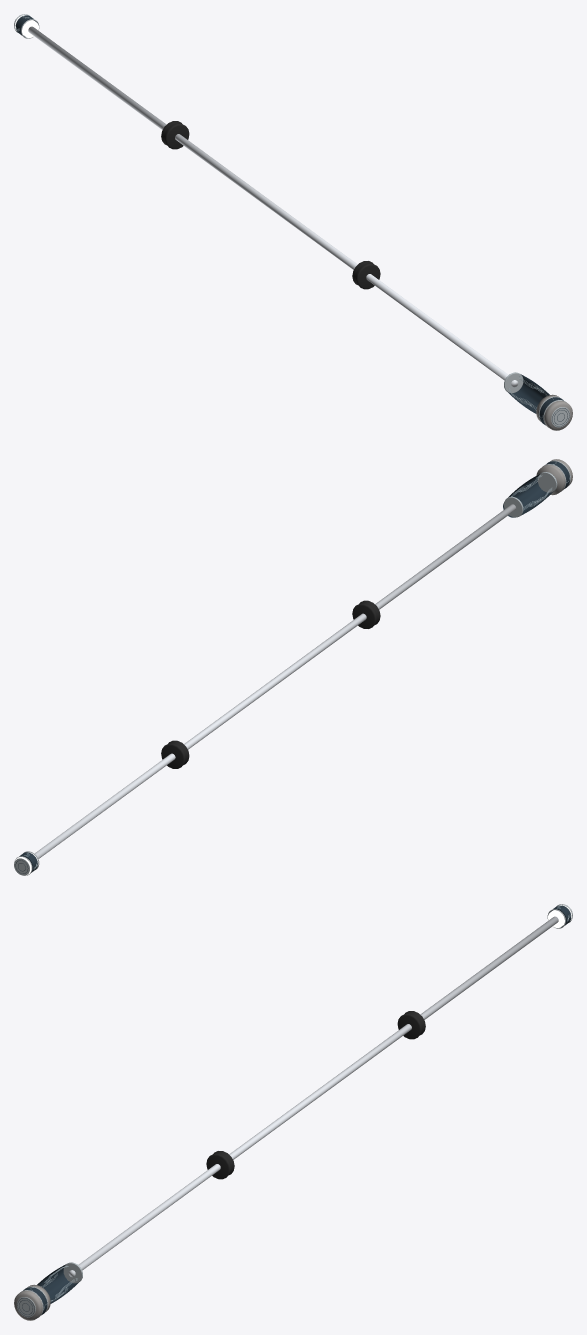
File: fuzeball_rod_3man.glb
3 views of the same model, one above another, from view 1: azimuth 30°, elevation 25°; view 2: azimuth 150°, elevation 25°; view 3: azimuth 330°, elevation 25° (orthographic).
Visible parts, largest first — view 1: rod2_bar.002, rod3_handle_silver_grip, CylinderR, CylinderL, rod2_knob.002; view 2: rod2_bar.002, rod3_handle_silver_grip, CylinderL, CylinderR; view 3: rod2_bar.002, rod3_handle_silver_grip, CylinderR, CylinderL, rod2_knob.002.
Boxes of the visible parts, left/top/right/bottom form: rod2_bar.002: left=28, top=26, right=518, bottom=387; rod3_handle_silver_grip: left=508, top=374, right=549, bottom=413; CylinderR: left=161, top=121, right=189, bottom=149; CylinderL: left=352, top=261, right=380, bottom=289; rod2_knob.002: left=536, top=394, right=572, bottom=430; rod2_bar.002: left=35, top=504, right=516, bottom=858; rod3_handle_silver_grip: left=503, top=473, right=553, bottom=517; CylinderL: left=352, top=600, right=380, bottom=628; CylinderR: left=161, top=740, right=189, bottom=768; rod2_bar.002: left=68, top=916, right=558, bottom=1277; rod3_handle_silver_grip: left=37, top=1264, right=78, bottom=1303; CylinderR: left=397, top=1011, right=425, bottom=1039; CylinderL: left=206, top=1151, right=234, bottom=1179; rod2_knob.002: left=14, top=1284, right=50, bottom=1320.
Bounding box in the file's own units: 3.45 × 3.45 × 118.
